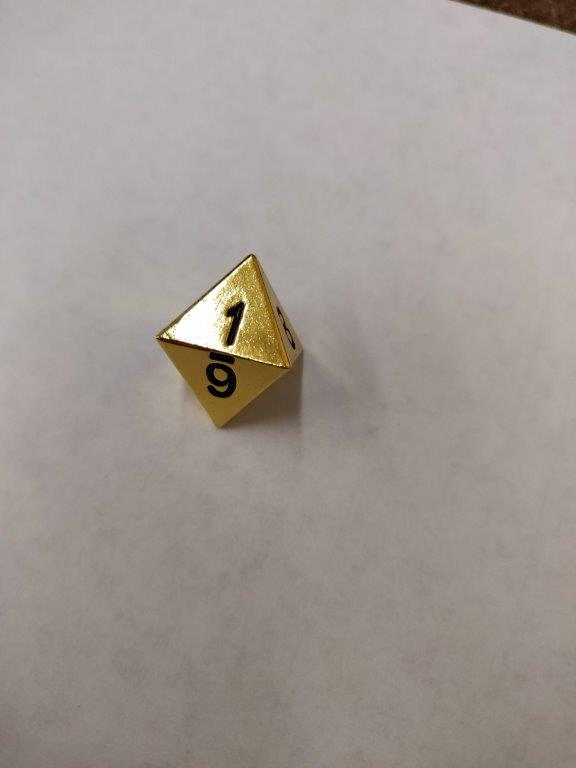d8-1: (152, 252, 305, 431)
